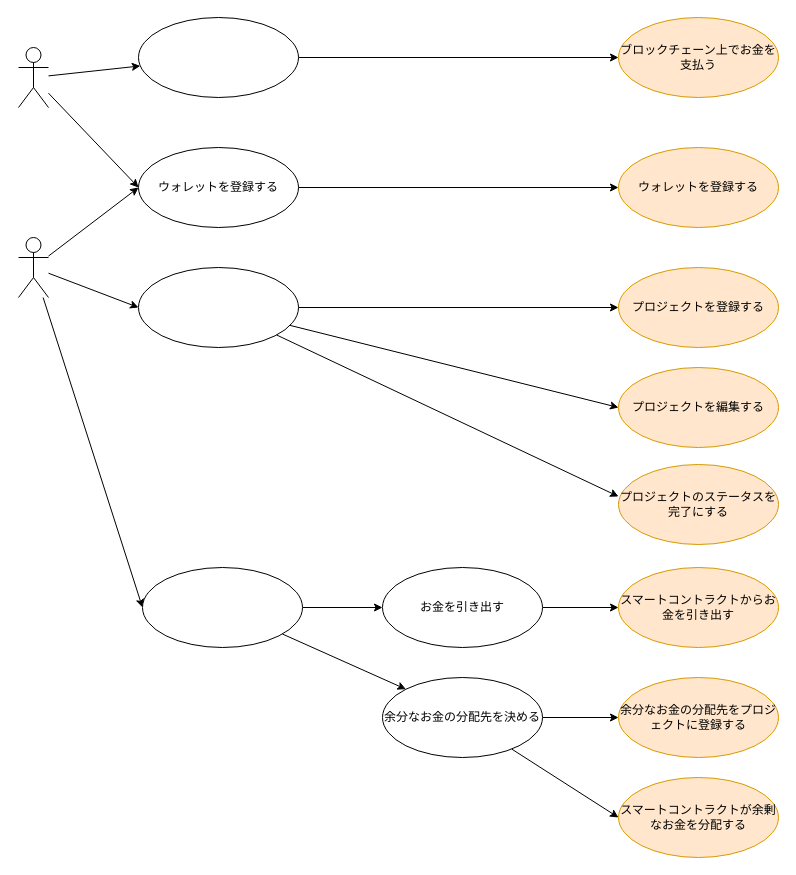
This 796x875 diagram has some shape labels left out. Here are the shapes that lost their labels. From the top down, the box of each, then its label:
(18, 46, 48, 108): payer
(138, 16, 298, 98): お金を支払う
(18, 236, 48, 298): payee
(138, 266, 298, 348): プロジェクトを管理する
(142, 566, 302, 648): プロジェクトから お金を受け取る
